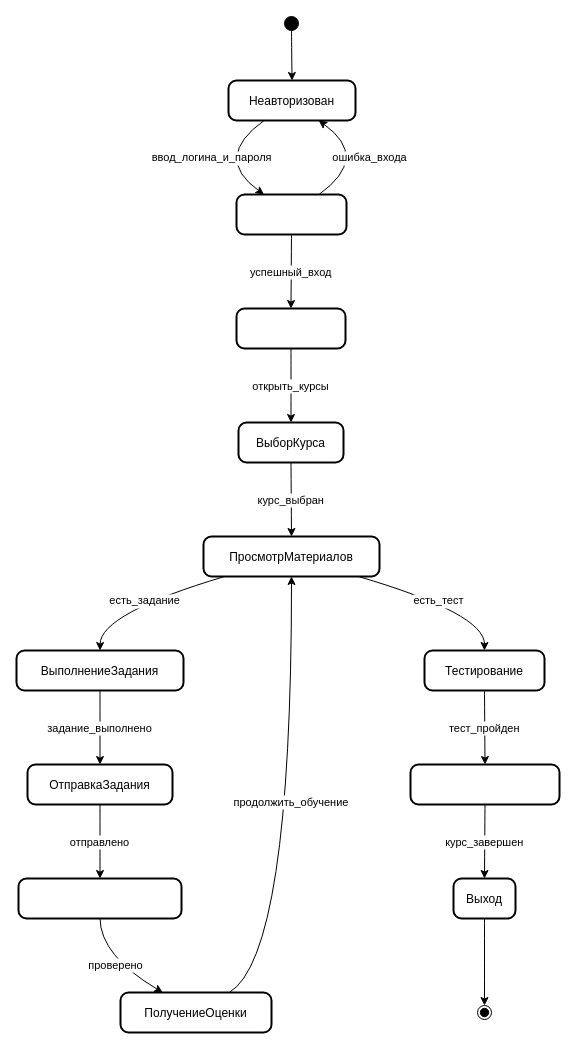
Some shapes in this 576 by 1049 pixel diagram are drawn without their labels. The shapes that lost their labels are listed below. From the top down, each one's centre as x and y in pixels, then its label:
At (x=291, y=214): "Авторизация".
At (x=290, y=328): "Авторизован".
At (x=484, y=784): "ЗавершениеКурса".
At (x=99, y=898): "ОжиданиеПроверки".
